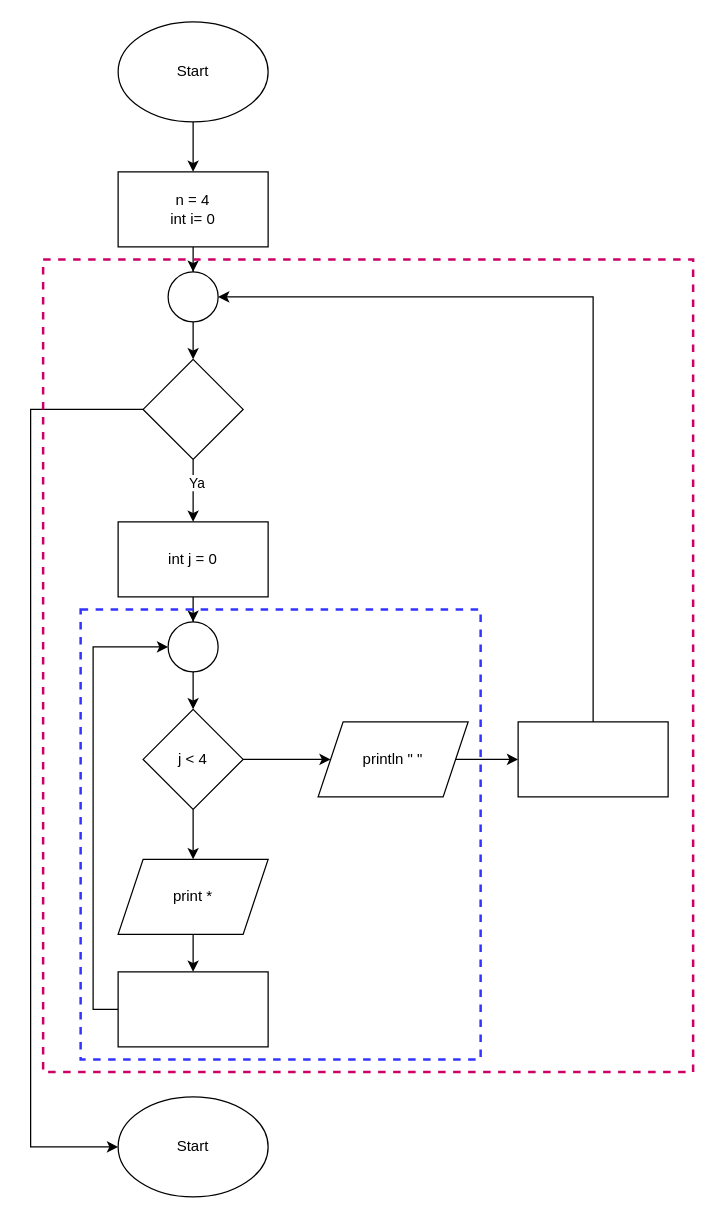
The diagram is 716 pixels wide and 1219 high, and some of its shapes have lost their labels. The shapes that lost their labels are listed below. From the top down, each one's centre as x and y in pixels, then its label:
(x=192, y=408): i < n
(x=592, y=759): i++
(x=192, y=1009): j++
